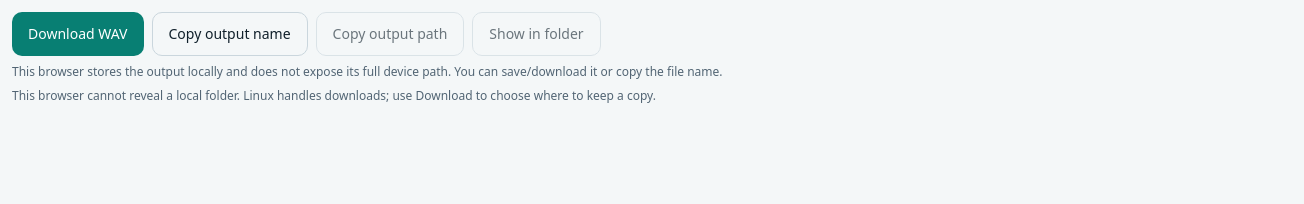
Scenario: history output actions › uses a selectable filename fallback when clipboard permission is unavailable
Click the button "Copy output name".
click(230, 34)  # box [152,12,308,56]
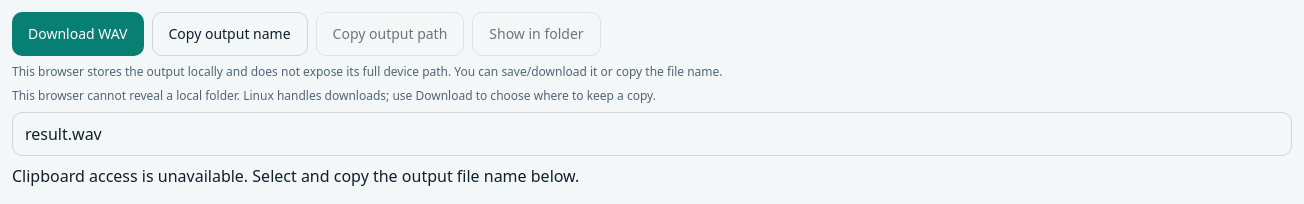
Now the field named "Selectable output file name" holds "result.wav", box [12,112,1292,156]
Now the message shows "Select and copy the output file name", box [12,165,579,187]
